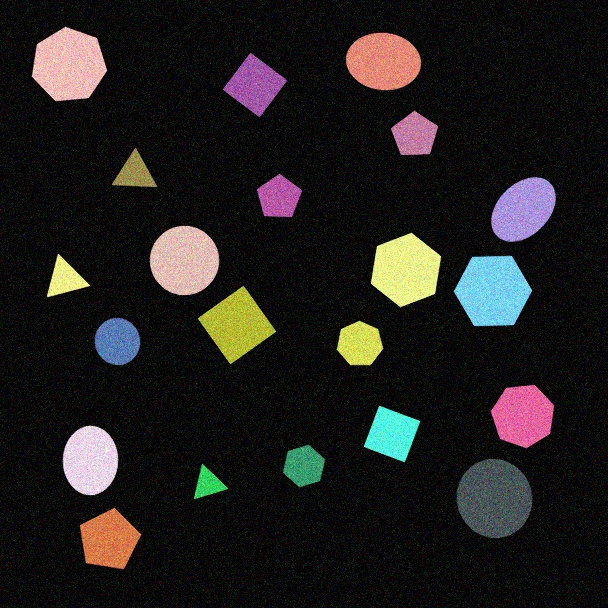Circulo: (456, 458, 533, 539), (149, 225, 220, 296), (94, 317, 141, 366)
Elipse: (345, 32, 422, 91), (490, 176, 557, 243), (62, 425, 119, 496)
Heptagono: (31, 26, 108, 102), (490, 384, 555, 449), (336, 320, 384, 366)
Hexagono: (453, 255, 533, 327), (370, 232, 442, 308), (282, 444, 326, 488)
Pentagono: (79, 507, 142, 570), (390, 110, 439, 156), (256, 173, 303, 218)
Quadrado: (197, 285, 277, 365), (222, 52, 288, 118), (363, 405, 421, 463)
Triangulo: (46, 254, 91, 298), (111, 148, 158, 188), (193, 463, 229, 500)
